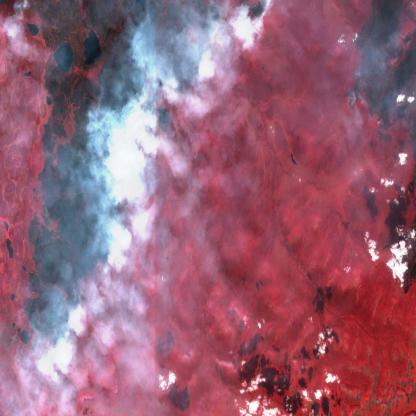fire: (0, 0, 229, 365), (238, 0, 278, 37)
